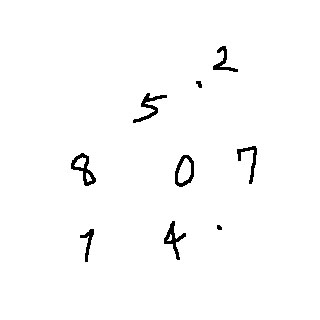.: (190, 78, 209, 92), (214, 222, 226, 235)
0: (168, 148, 198, 198)
1: (70, 222, 102, 274)
2: (212, 43, 245, 73)
4: (161, 213, 190, 269)
5: (120, 85, 177, 131)
7: (229, 136, 264, 200)
8: (68, 146, 106, 198)
